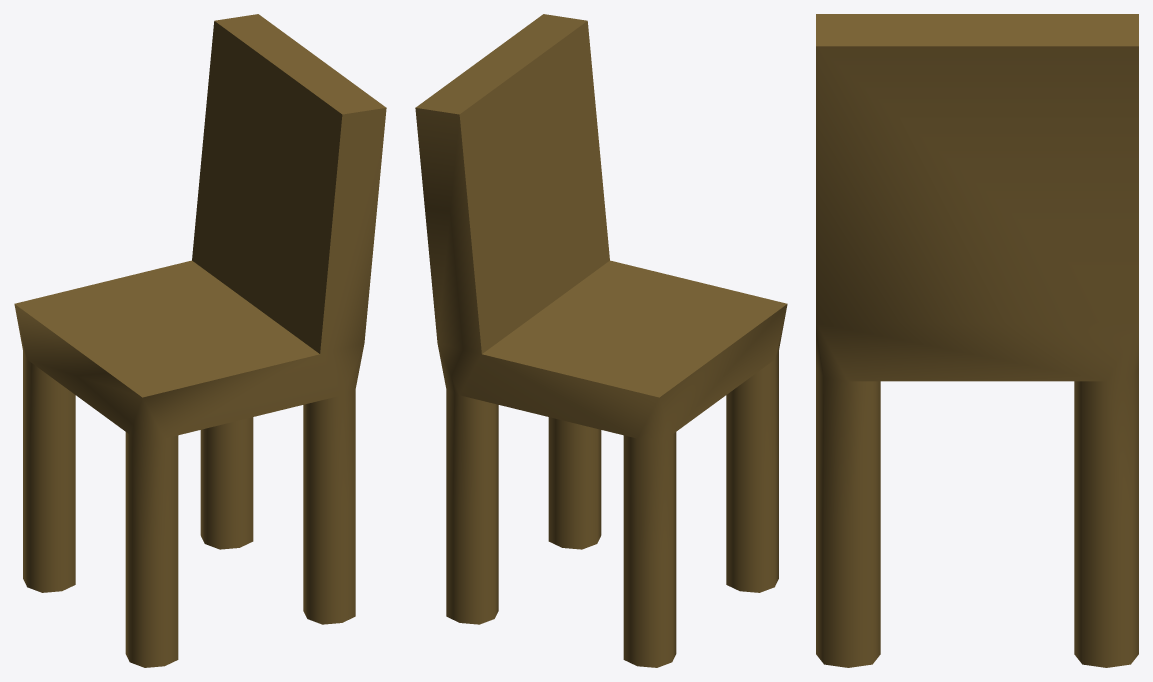
File: chair.obj
3 views of the same model, side by side, from view 1: azimuth 30°, elevation 25°; view 2: azimuth 150°, elevation 25°; view 3: azimuth 270°, elevation 25° (orthographic). The views are drawn at different scales.
Visible parts, largest first — view 1: Cube10; view 2: Cube10; view 3: Cube10.
Part boxes in pixels (bbox=[...]): Cube10: bbox=[14, 14, 386, 667]; Cube10: bbox=[415, 14, 787, 667]; Cube10: bbox=[816, 14, 1138, 667].
Size of the model in its own units: 2.2 by 4.38 by 2.
